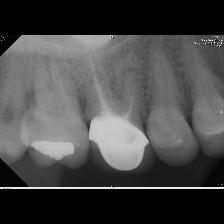apical_lesion: (72, 36, 158, 177)
